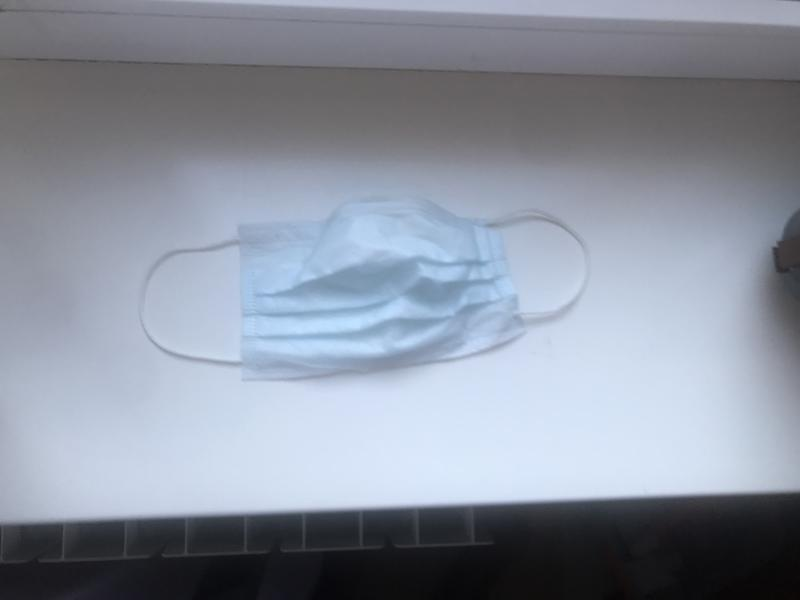medical_mask: (138, 197, 591, 382)
